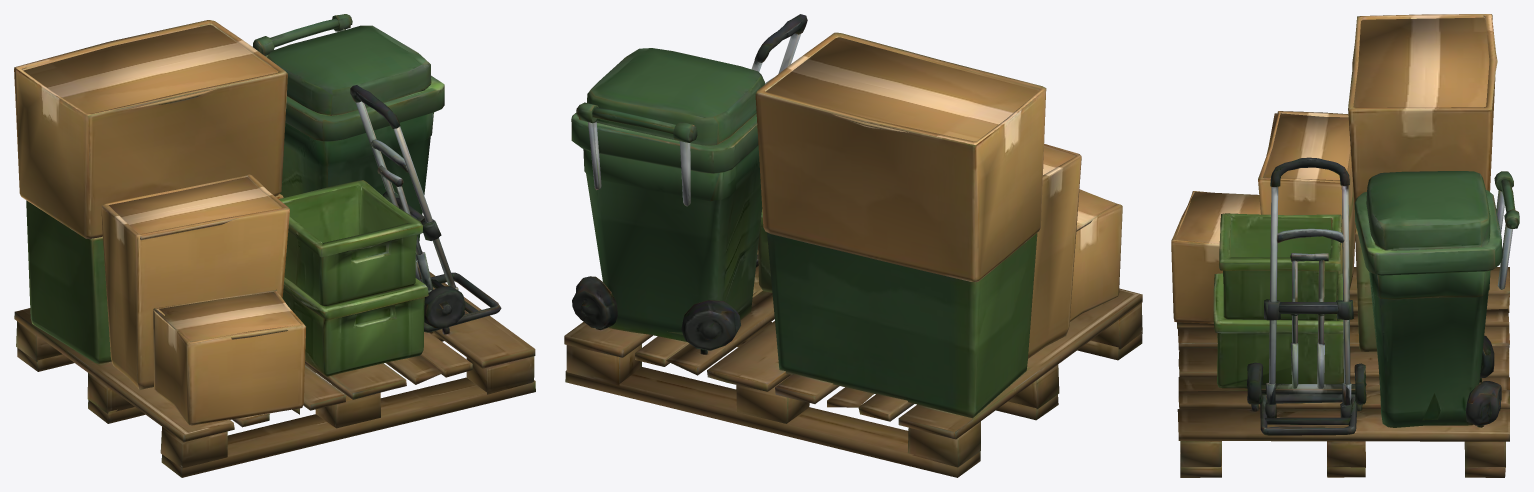
Rendered from loading-zone-cluster.glb.
3 views of the same model, side by side, from view 1: azimuth 30°, elevation 25°; view 2: azimuth 150°, elevation 25°; view 3: azimuth 270°, elevation 25° (orthographic). The views are drawn at different scales.
Bounding box in the file's own units: 1 × 0.7695 × 0.832.
1 material, 1 textured.
